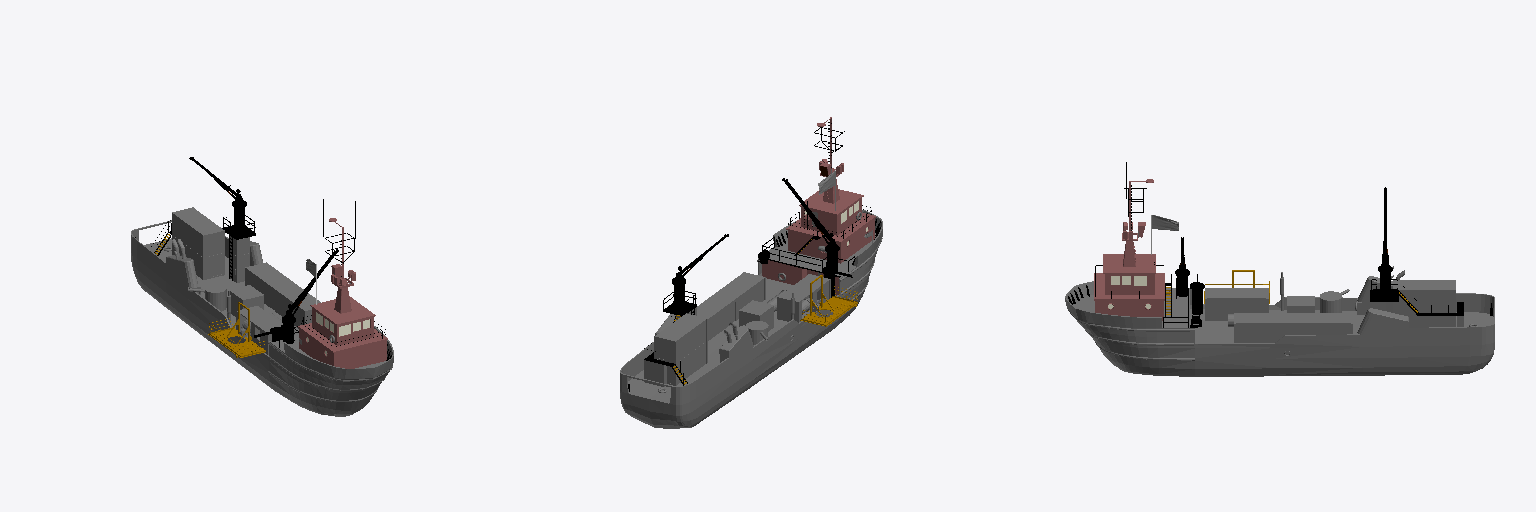
The model's file is ship.obj.
The picture shows the model from 3 angles: view 1: azimuth 30°, elevation 25°; view 2: azimuth 150°, elevation 25°; view 3: azimuth 270°, elevation 25°; orthographic projection.
Visible parts, largest first — view 1: Ship_-_boat; view 2: Ship_-_boat; view 3: Ship_-_boat.
Part boxes in pixels (x1,y1,x2,y2): Ship_-_boat: (131, 157, 393, 416); Ship_-_boat: (620, 117, 882, 428); Ship_-_boat: (1065, 162, 1494, 376).
Size of the model in its own units: 1.02 by 1.9 by 3.52.